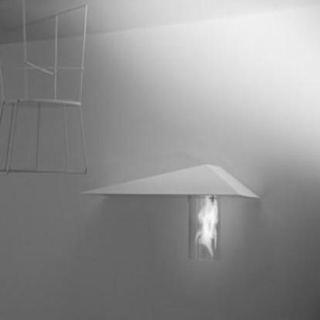Fire: (192, 198, 220, 264)
